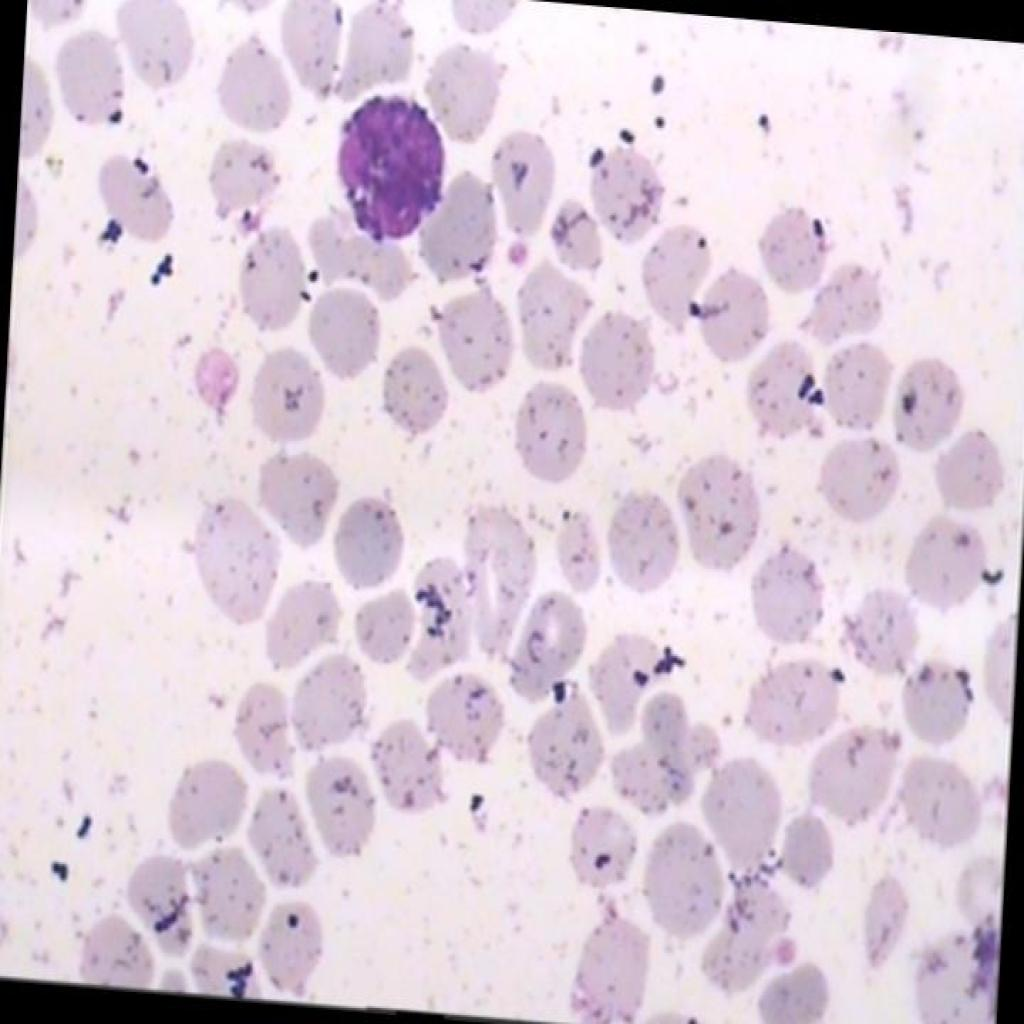Basofil: (326, 80, 449, 261)
Platelet: (198, 343, 246, 404), (504, 226, 534, 279)
